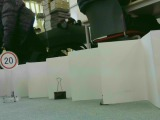speed_20: (1, 50, 20, 71)
